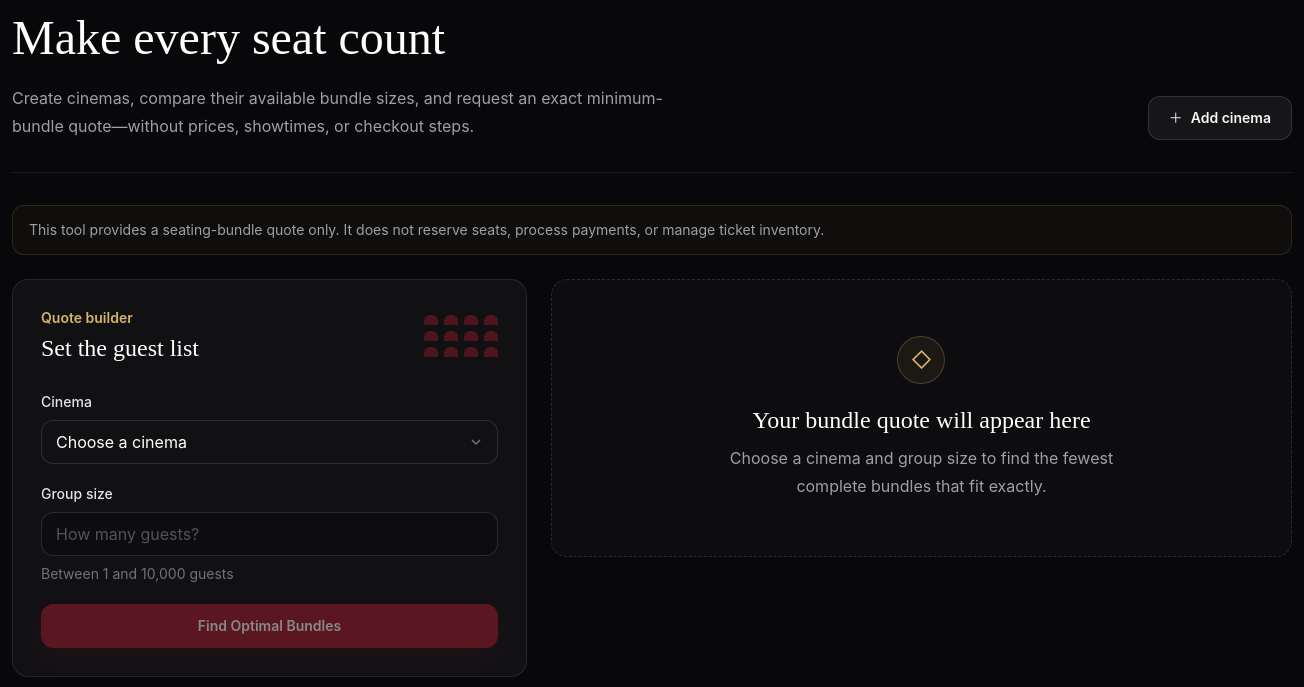
Test: BookingPage › shows the optimal quote for Cinema B and group 11
Step 1. Select "Cinema B" in the dropdown labelled "Cinema" → x=270, y=442, box [41, 420, 498, 464]
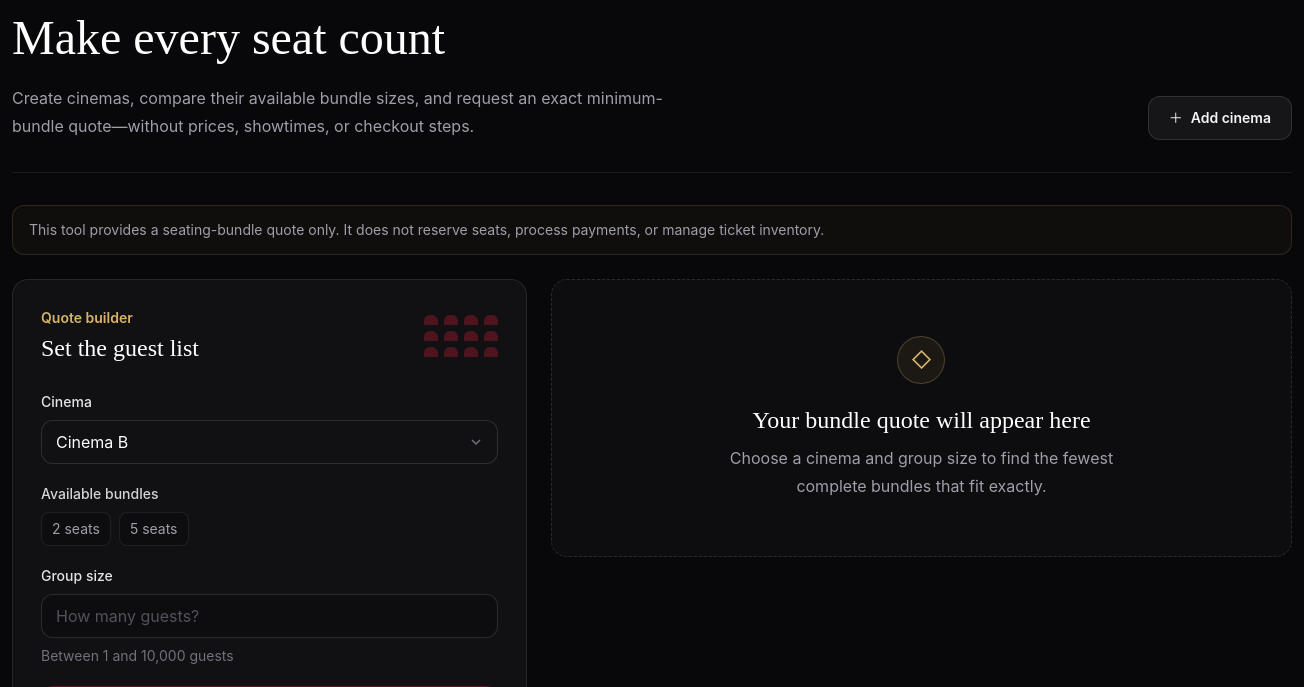
Step 2. Type "11" into the number field labelled "Group size" → x=270, y=616, box [41, 594, 498, 638]
(page scrolled)
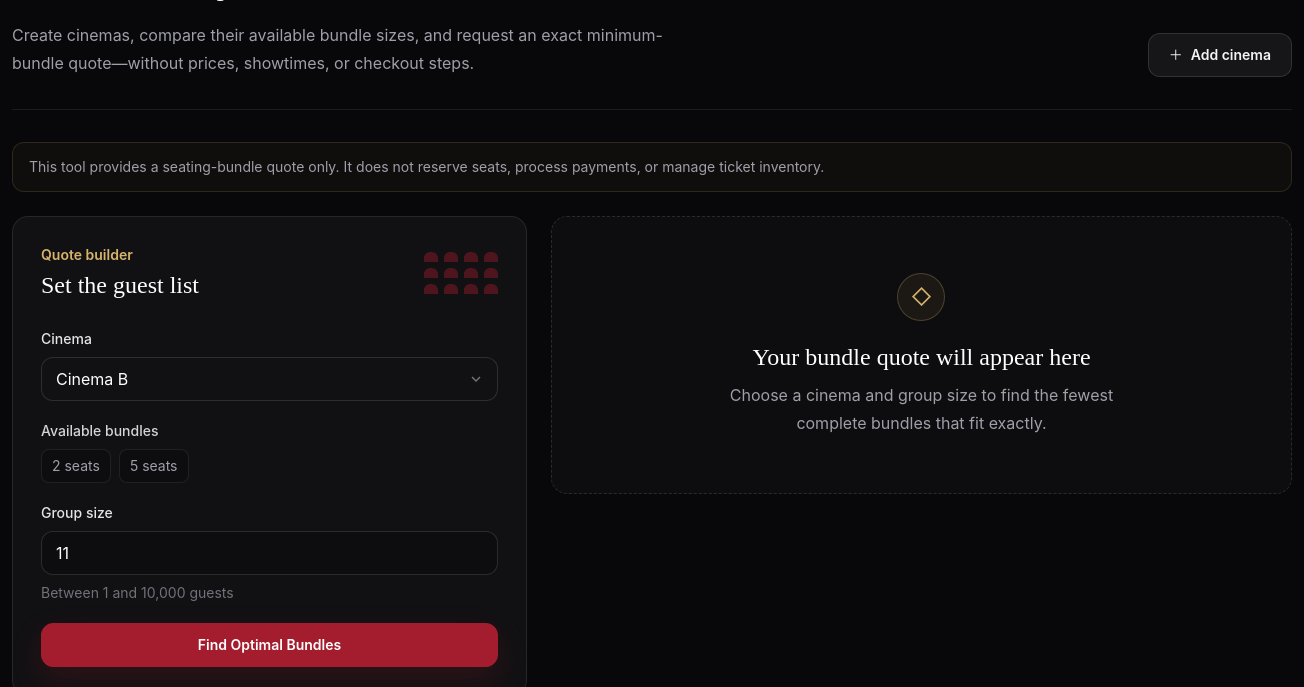
Step 3. Click the button "Find Optimal Bundles" → x=270, y=645, box [41, 623, 498, 667]
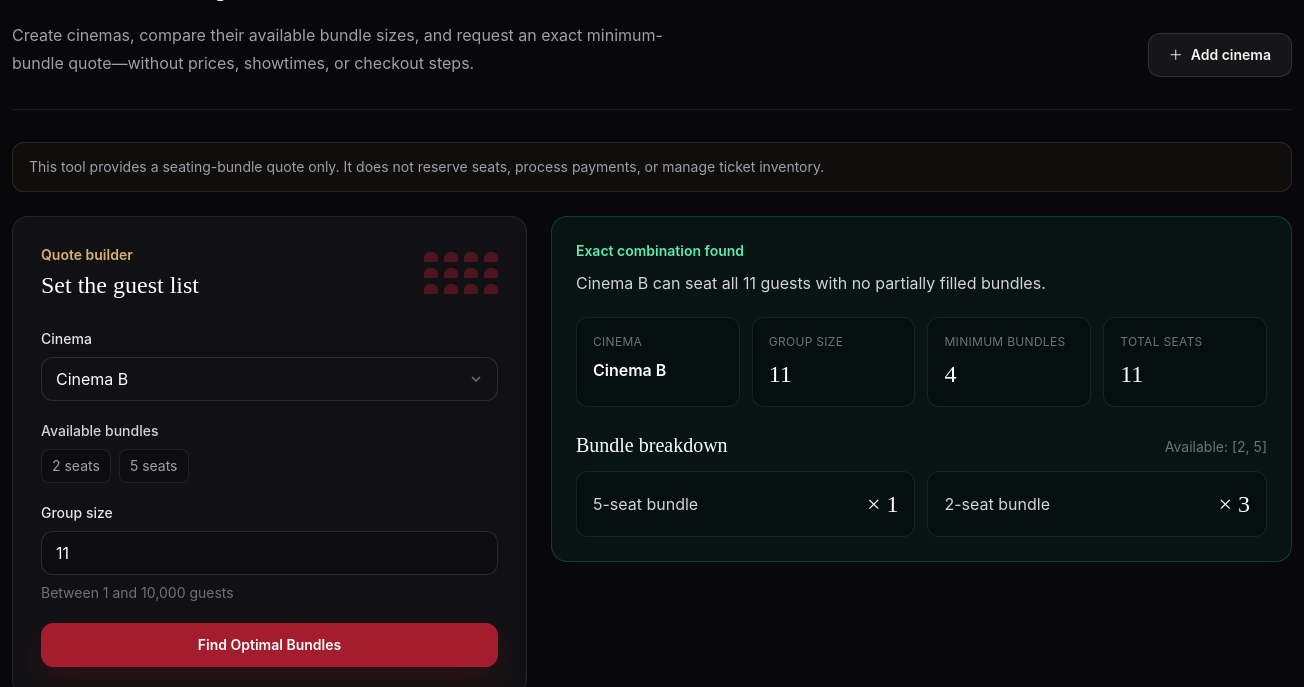
Check: the text "Exact combination found" is shown, box [576, 242, 744, 259]
Check: the text "4" is shown, box [944, 361, 956, 387]
Check: the text "11" below "Total seats" is shown, box [1120, 361, 1143, 387]
